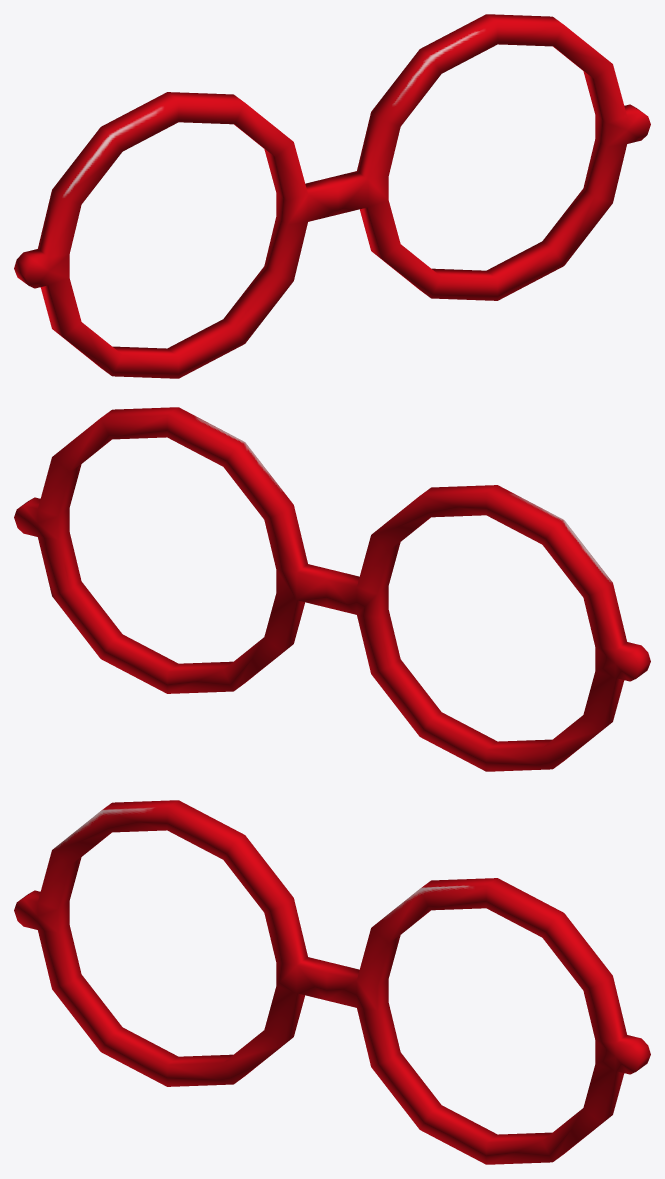
The model's file is Acce_glass_Circle.FBX.
3 renders of one model, top to bottom at view 1: azimuth 30°, elevation 25°; view 2: azimuth 150°, elevation 25°; view 3: azimuth 330°, elevation 25°, orthographic.
Visible parts, largest first — view 1: glass_Circle; view 2: glass_Circle; view 3: glass_Circle.
Part boxes in pixels (x1,y1,x2,y2): glass_Circle: (14, 14, 650, 378); glass_Circle: (14, 407, 650, 771); glass_Circle: (14, 800, 650, 1164).
Bounding box in the file's own units: 21.76 × 9.25 × 0.6887.
Materials: 1 (1 with a texture image).
